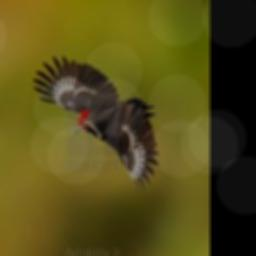Woodpecker: (32, 56, 160, 190)
